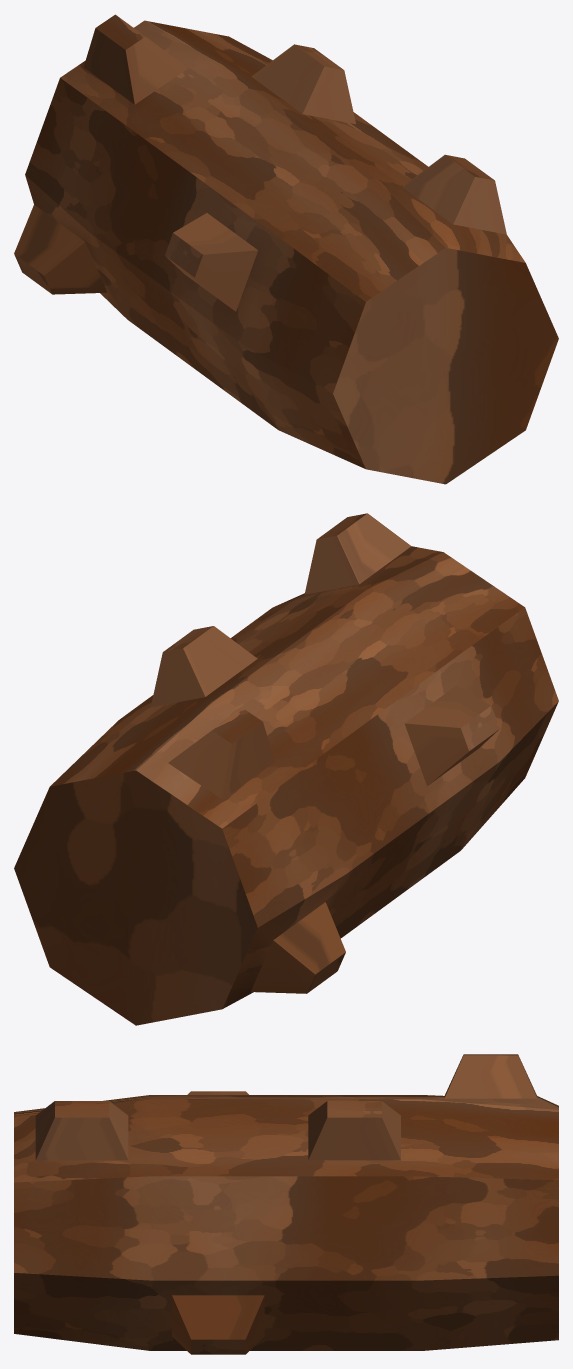
File: Log 2.fbx
3 views of the same model, one above another, from view 1: azimuth 30°, elevation 25°; view 2: azimuth 150°, elevation 25°; view 3: azimuth 270°, elevation 25° (orthographic). The views are drawn at different scales.
Parts seen in each view (by area): view 1: pCylinder1; view 2: pCylinder1; view 3: pCylinder1.
Part boxes in pixels (x1=…): pCylinder1: x1=14, y1=14, x2=558, y2=484; pCylinder1: x1=14, y1=513, x2=558, y2=1025; pCylinder1: x1=14, y1=1054, x2=558, y2=1354.
Bounding box in the file's own units: 2.35 × 2.17 × 4.
